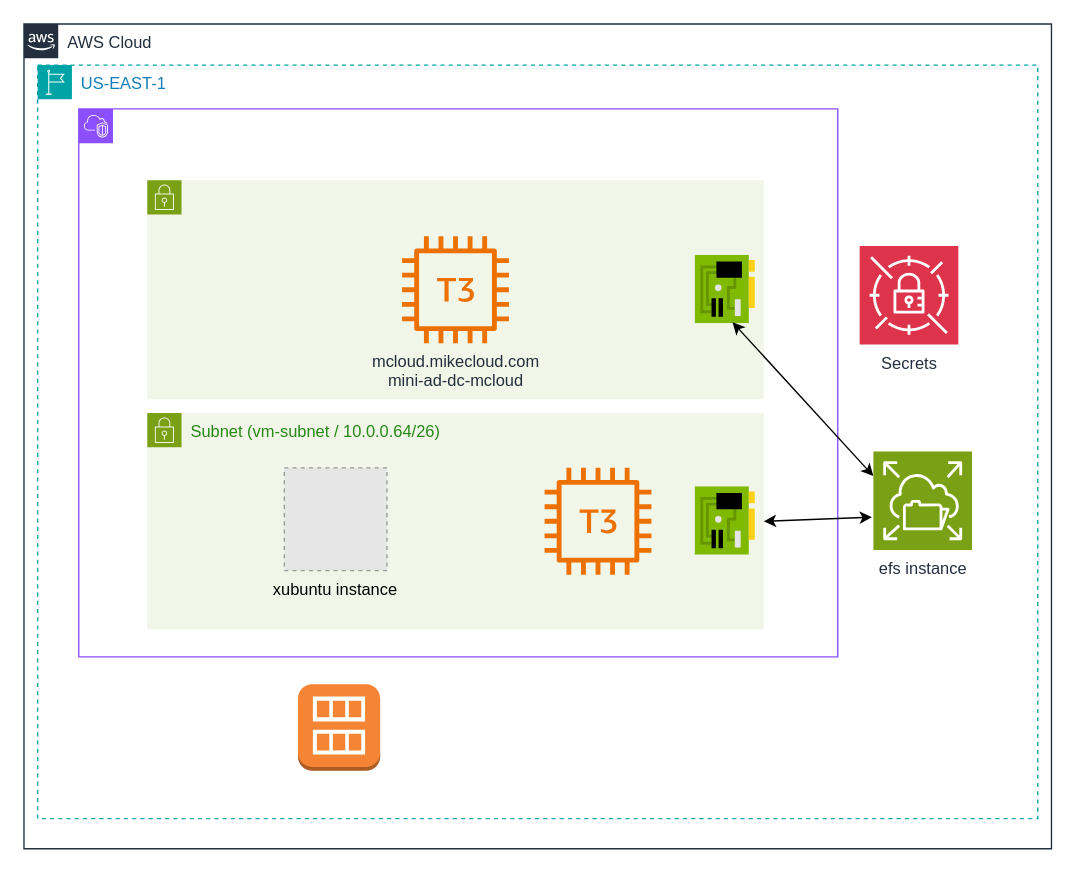
Some shapes in this 1075 by 873 pixel diagram are drawn without their labels. Grey dashed boxes stand in for pictures. The shapes that lost their labels are listed below. From the top down, each one's box as (x1, y1, x2, y2) in pixels, then its label:
(146, 179, 764, 399): Subnet (ad-subnet / 10.0.0.0/26)
(77, 108, 838, 657): VPC (ad-vpc / 10.0.0.0/24)
(544, 467, 651, 574): windows-ad-admin
(297, 683, 380, 771): xubuntu AMI
